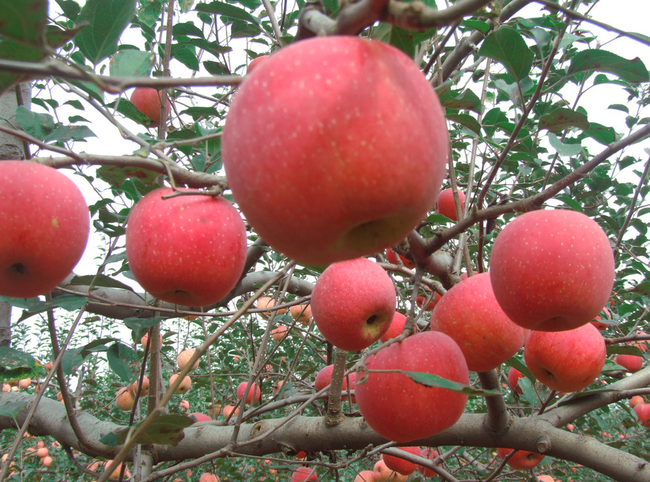apple: (222, 36, 447, 263), (489, 206, 617, 330), (125, 187, 246, 303), (1, 160, 90, 298), (310, 257, 397, 351)
obscured(1)_apple: (356, 328, 470, 442), (428, 272, 533, 371), (524, 316, 609, 391)
obscured(2)_apple: (125, 84, 171, 127)
